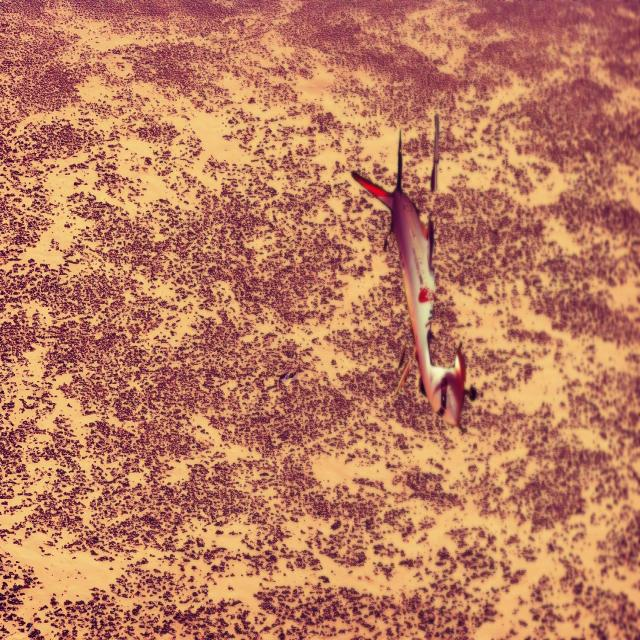airplane: (350, 112, 468, 428)
